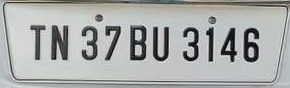character: (48, 24, 69, 61), (79, 25, 99, 62), (127, 23, 147, 60), (150, 25, 170, 60), (103, 24, 121, 62), (180, 25, 199, 61), (219, 25, 237, 63), (28, 23, 46, 60), (242, 26, 260, 63), (203, 26, 216, 63)
